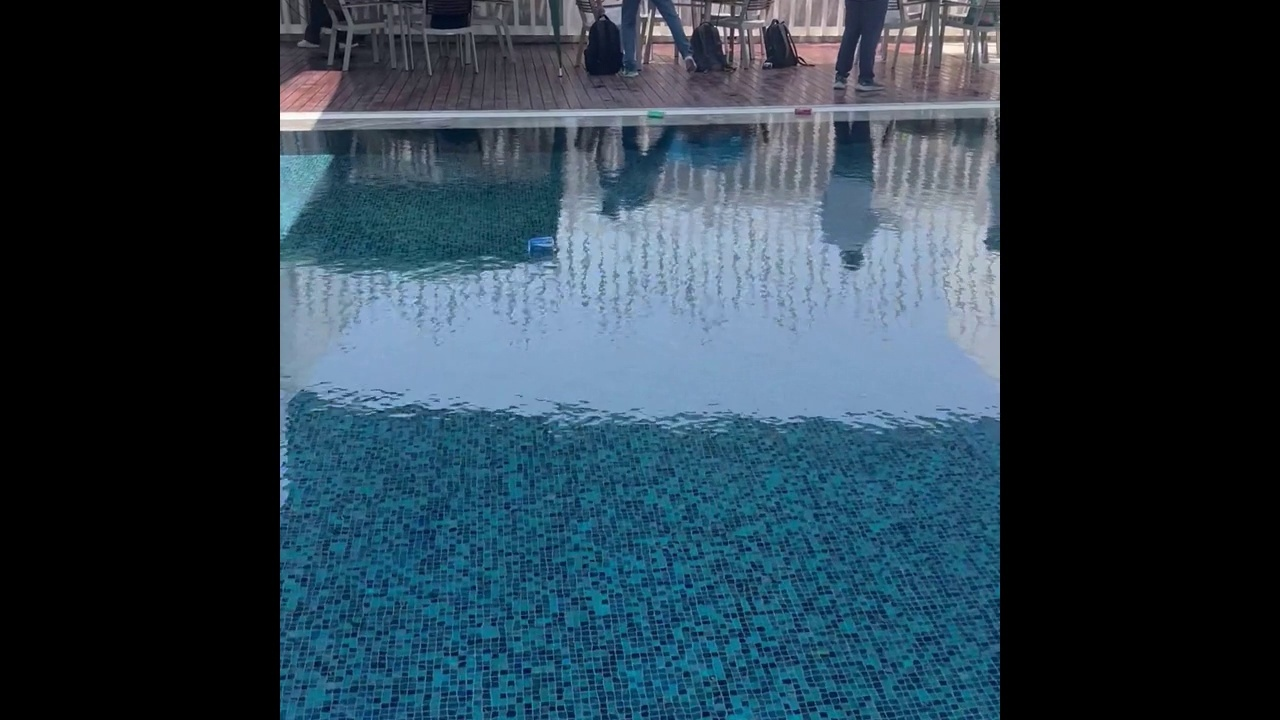debris: (523, 232, 562, 262), (792, 102, 813, 119), (644, 106, 665, 121)
